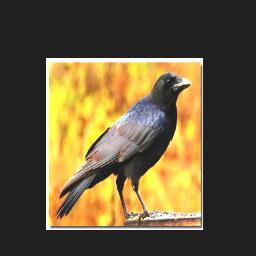Crow: (54, 69, 192, 219)
